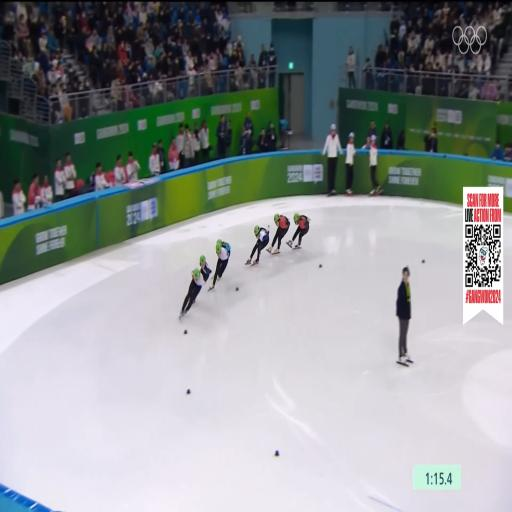Skater: (180, 269, 204, 318), (210, 239, 230, 289), (267, 214, 290, 254), (246, 226, 269, 264), (287, 213, 309, 248), (200, 256, 211, 282)
